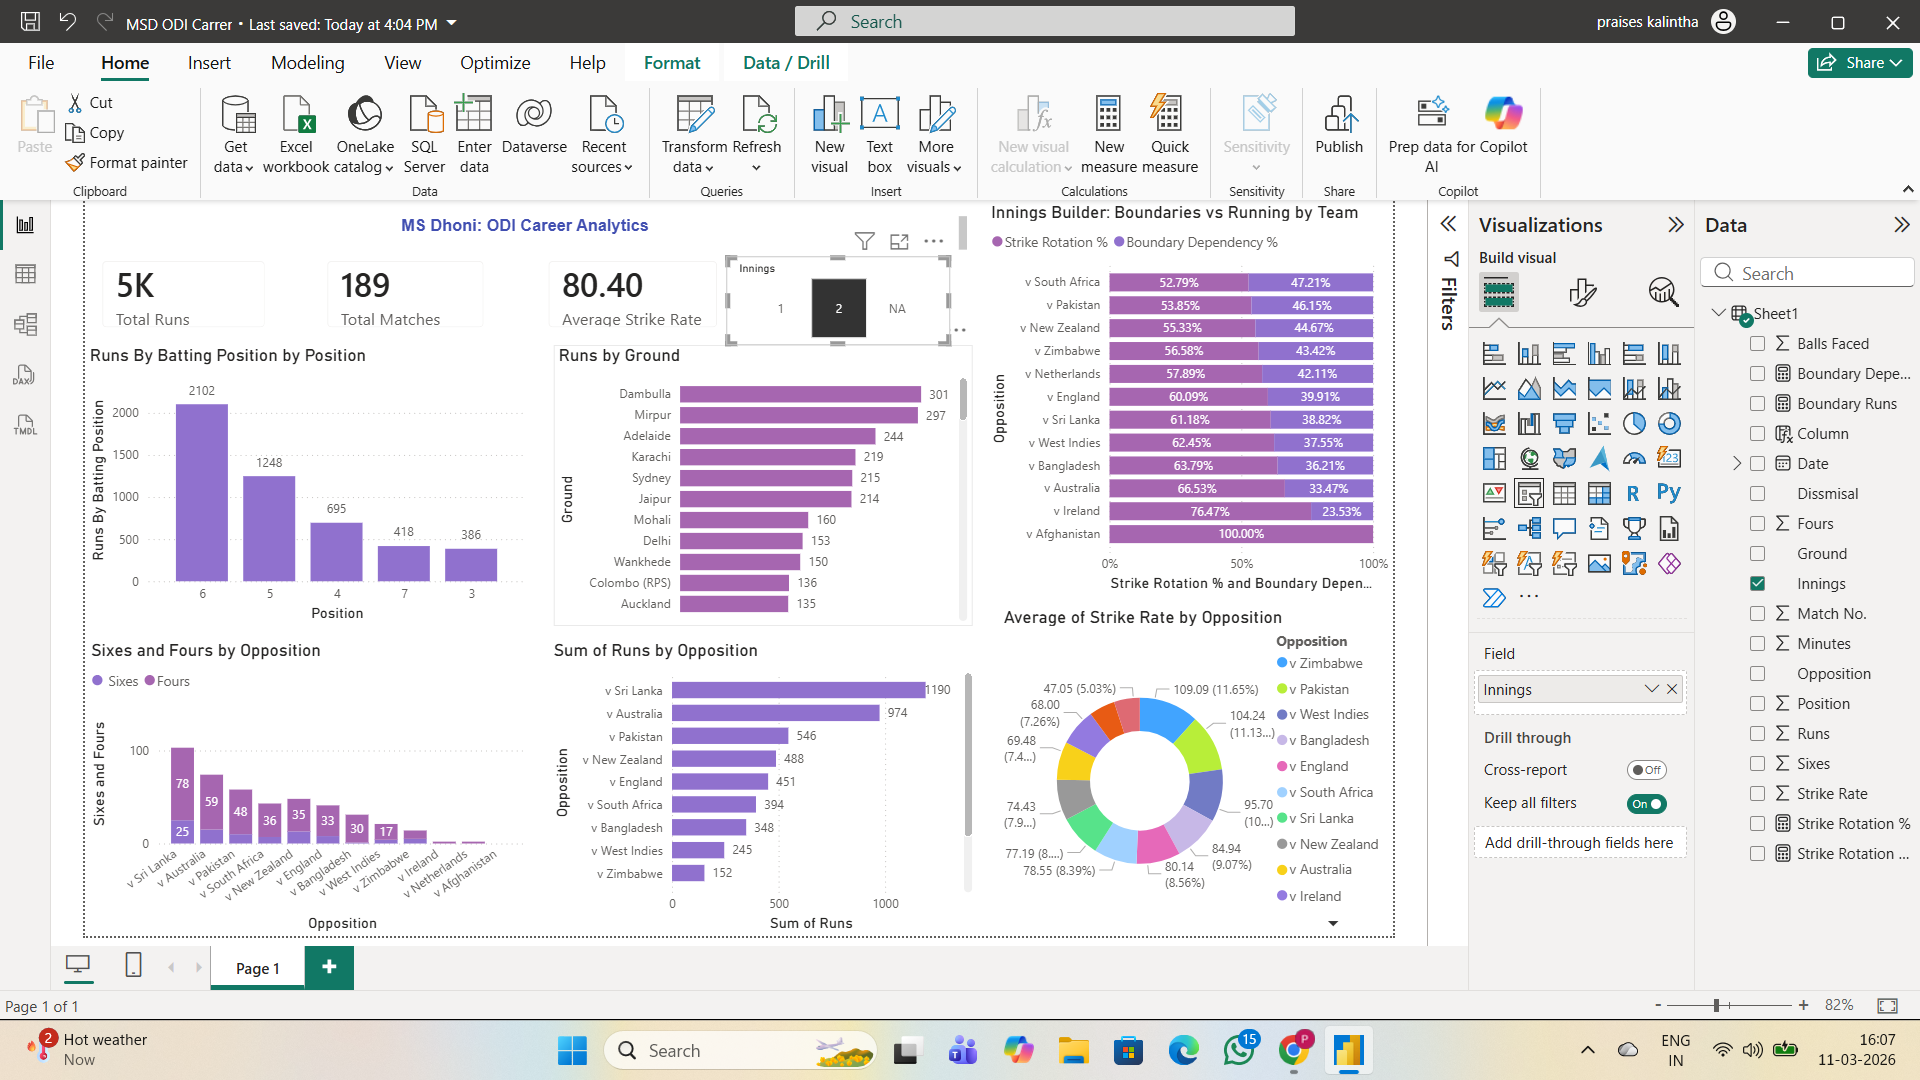

The dashboard page shown, as its layout file describes it:
{"tool":"powerbi","page":{"name":"Page 1","canvas":[1280,720],"ordinal":0},"visuals":[{"type":"columnChart","fields":{"Category":["Sheet1.Position"],"Y":["Sum(Sheet1.Runs)"]},"box":[0,141.8,436.6,275.1],"z":0},{"type":"columnChart","fields":{"Category":["Sheet1.Opposition"],"Y":["Sum(Sheet1.Sixes)","Sum(Sheet1.Fours)"]},"box":[1.2,430.4,435.3,289.8],"z":1000},{"type":"clusteredBarChart","fields":{"Y":["Sum(Sheet1.Runs)"],"Category":["Sheet1.Opposition"]},"box":[453.7,430.4,419.4,289.8],"z":2000},{"type":"donutChart","fields":{"Category":["Sheet1.Opposition"],"Y":["Avg(Sheet1.Strike Rate)"]},"box":[893.9,397.4,386.4,322.8],"z":3000},{"type":"cardVisual","fields":{"Data":["Sum(Sheet1.Runs)"]},"box":[0,42.8,193.2,99],"z":4000},{"type":"cardVisual","fields":{"Data":["CountNonNull(Sheet1.Match No.)"]},"box":[220.1,42.8,187.1,99],"z":5000},{"type":"cardVisual","fields":{"Data":["Avg(Sheet1.Strike Rate)"]},"box":[436.6,42.8,199.3,99],"z":6000},{"type":"barChart","fields":{"Category":["Sheet1.Ground"],"Y":["Sum(Sheet1.Runs)"]},"box":[458.6,141.8,409.6,275.1],"z":7000},{"type":"slicer","fields":{"Values":["Sheet1.Innings"]},"box":[627.3,55,218.9,86.8],"z":8000},{"type":"hundredPercentStackedBarChart","title":"Innings Builder: Boundaries vs Running by Team","fields":{"Category":["Sheet1.Opposition"],"Y":["Sheet1.Strike Rotation %","Sheet1.Boundary Dependency %"]},"box":[881.7,1.2,398.6,386.4],"z":9000},{"type":"textbox","box":[1.2,11,867,44],"z":10000}]}

Visuals, with their boxes on the page's 1280x720 design canvas (x1, y1, x2, y2). These are canvas units, not pixel positions in the 1920x1080 screenshot, which may show the page scaled, cropped or inside an application window:
columnChart - Sheet1.Position x Sum(Sheet1.Runs): 0:142:437:417
columnChart - Sheet1.Opposition x Sum(Sheet1.Sixes): 1:430:436:720
clusteredBarChart - Sum(Sheet1.Runs) x Sheet1.Opposition: 454:430:873:720
donutChart - Sheet1.Opposition x Avg(Sheet1.Strike Rate): 894:397:1280:720
cardVisual - Sum(Sheet1.Runs): 0:43:193:142
cardVisual - CountNonNull(Sheet1.Match No.): 220:43:407:142
cardVisual - Avg(Sheet1.Strike Rate): 437:43:636:142
barChart - Sheet1.Ground x Sum(Sheet1.Runs): 459:142:868:417
slicer - Sheet1.Innings: 627:55:846:142
"Innings Builder: Boundaries vs Running by Team" hundredPercentStackedBarChart: 882:1:1280:388
textbox: 1:11:868:55
